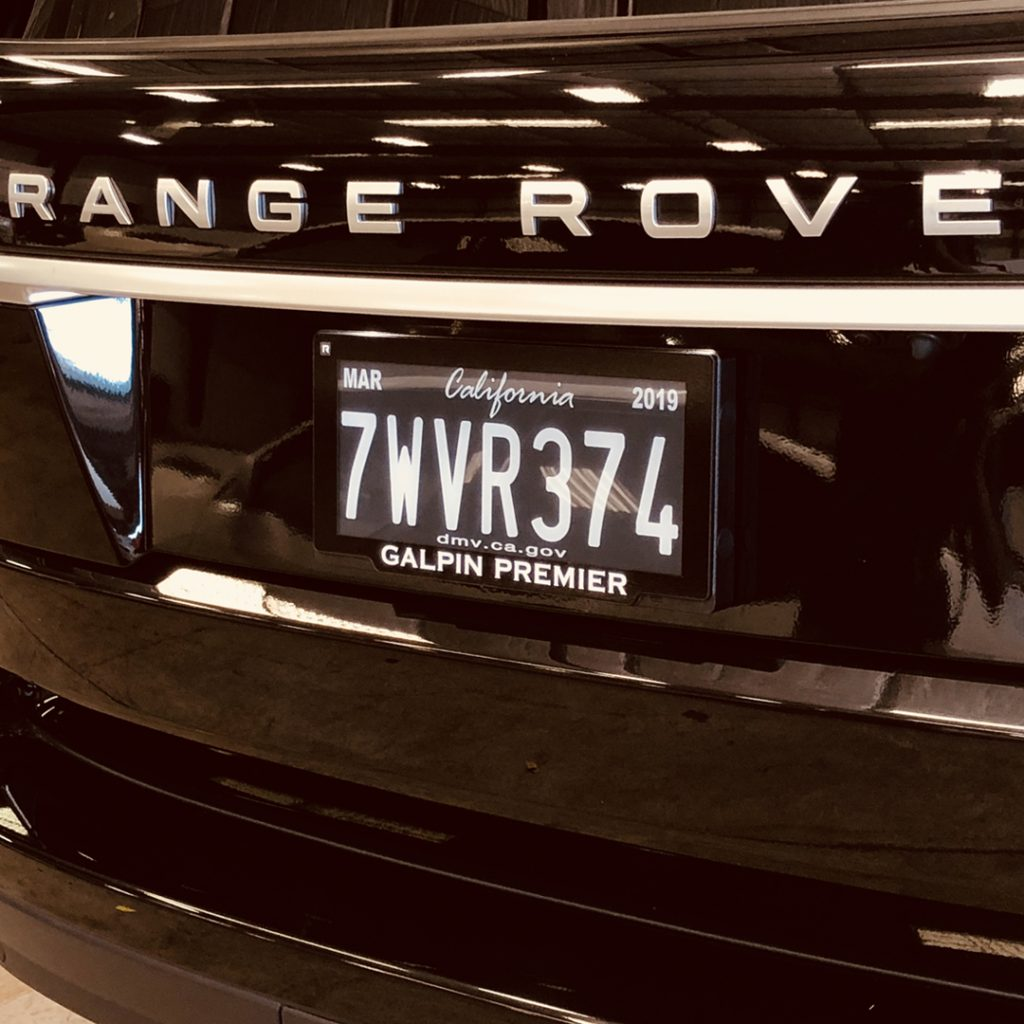license plate: (322, 343, 709, 606)
